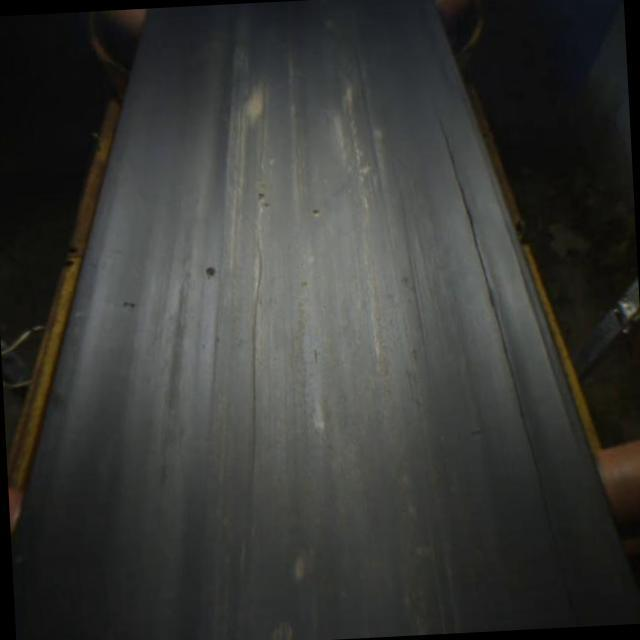Hole: (203, 262, 218, 282)
Puncture: (260, 200, 272, 212), (308, 208, 324, 216), (256, 191, 266, 200)
Tear: (434, 112, 559, 538), (245, 237, 268, 492)
